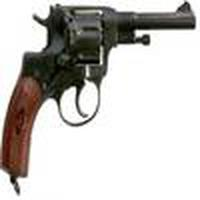gun: (3, 4, 200, 179)
